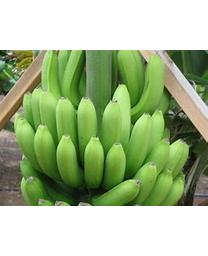banana: (12, 50, 188, 201)
